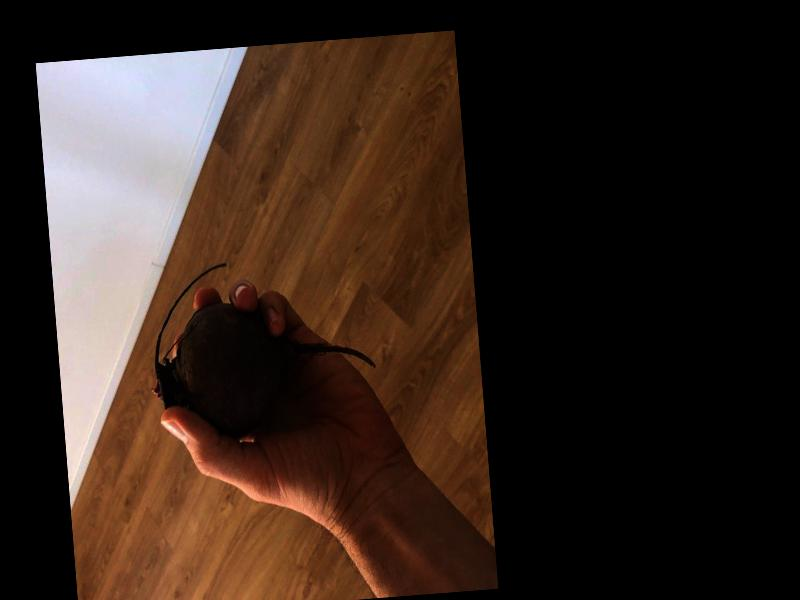Beet: (142, 250, 378, 443)
